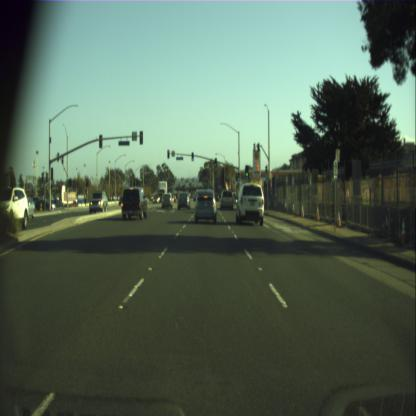Green: (245, 164, 249, 176), (214, 157, 217, 166), (192, 152, 194, 160), (238, 172, 240, 180)
RedLeft: (166, 149, 170, 158)
